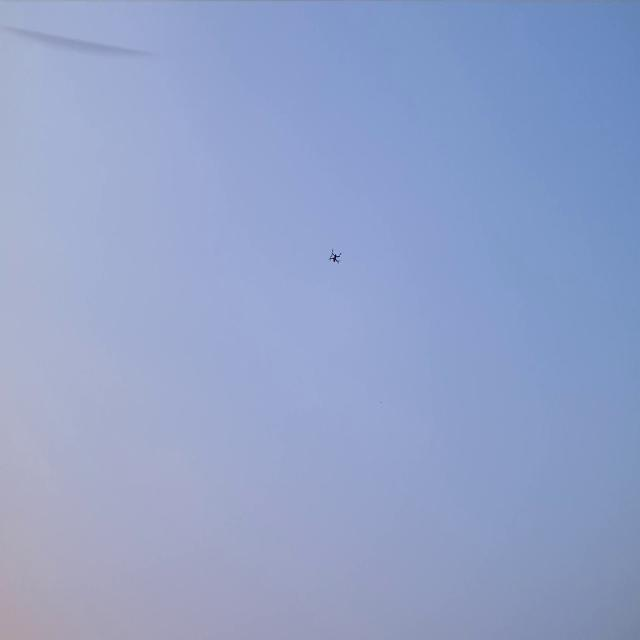UAV: (328, 248, 342, 266)
